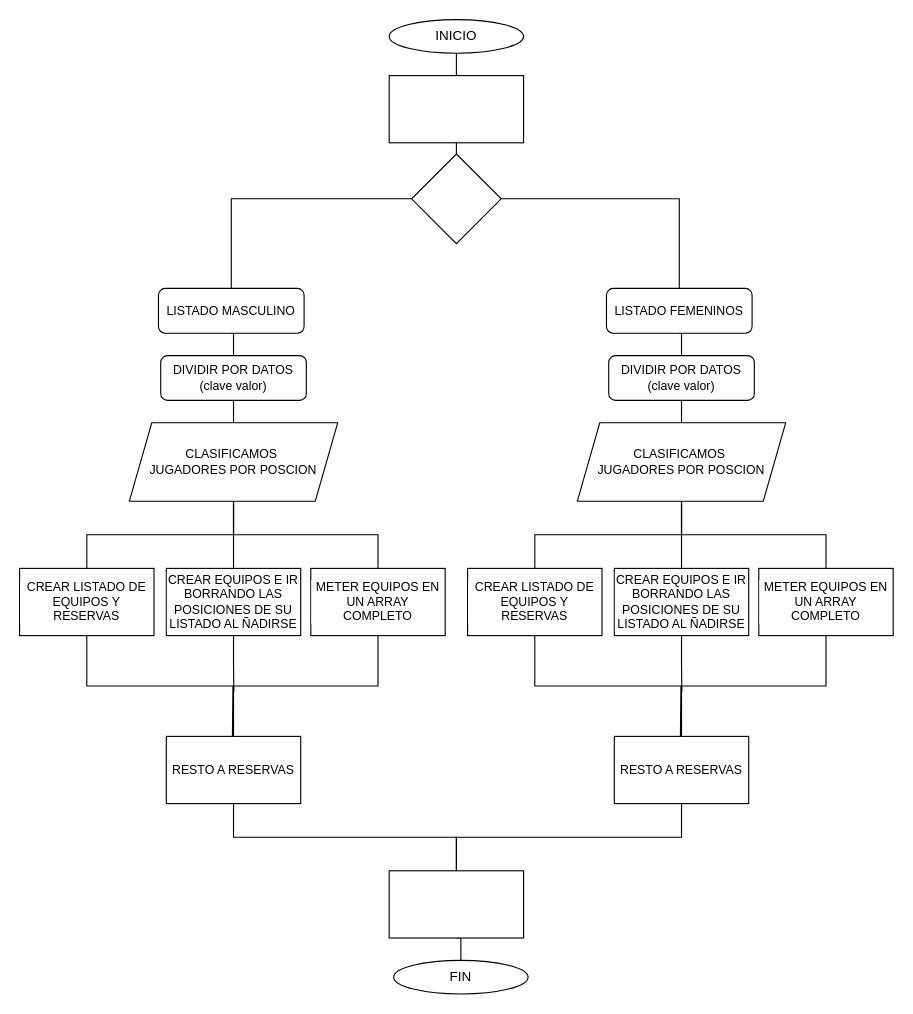
Image size: 913x1014. Some labels were removed from this diagram. The centre of each missing label's shape, as x and y in pixels:
"DECISION ¿M/F?" belongs at (455,198).
"ELIMINAR DUPLICADOS" belongs at (456,108).
"MOSTRAR RESULTADO" belongs at (456,904).
